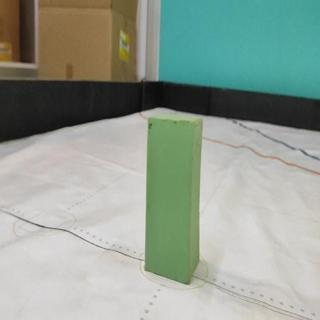greenbox: (143, 109, 204, 286)
